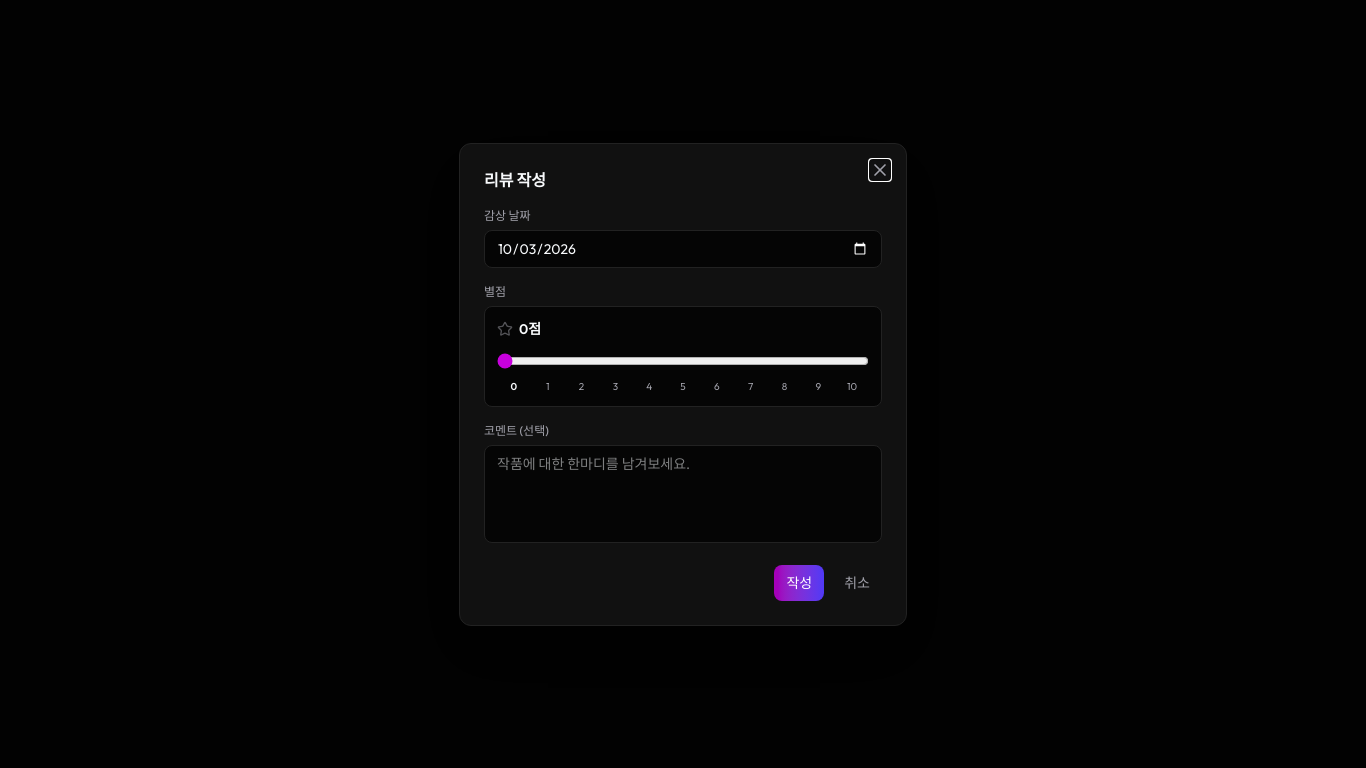
it: Review flow integration › 리뷰 작성 실패 시 서버 메시지를 표시하고 성공 이벤트를 보내지 않아야 한다
Set the slider named "별점 선택" to "7": (754, 360) [497,356,869,364]
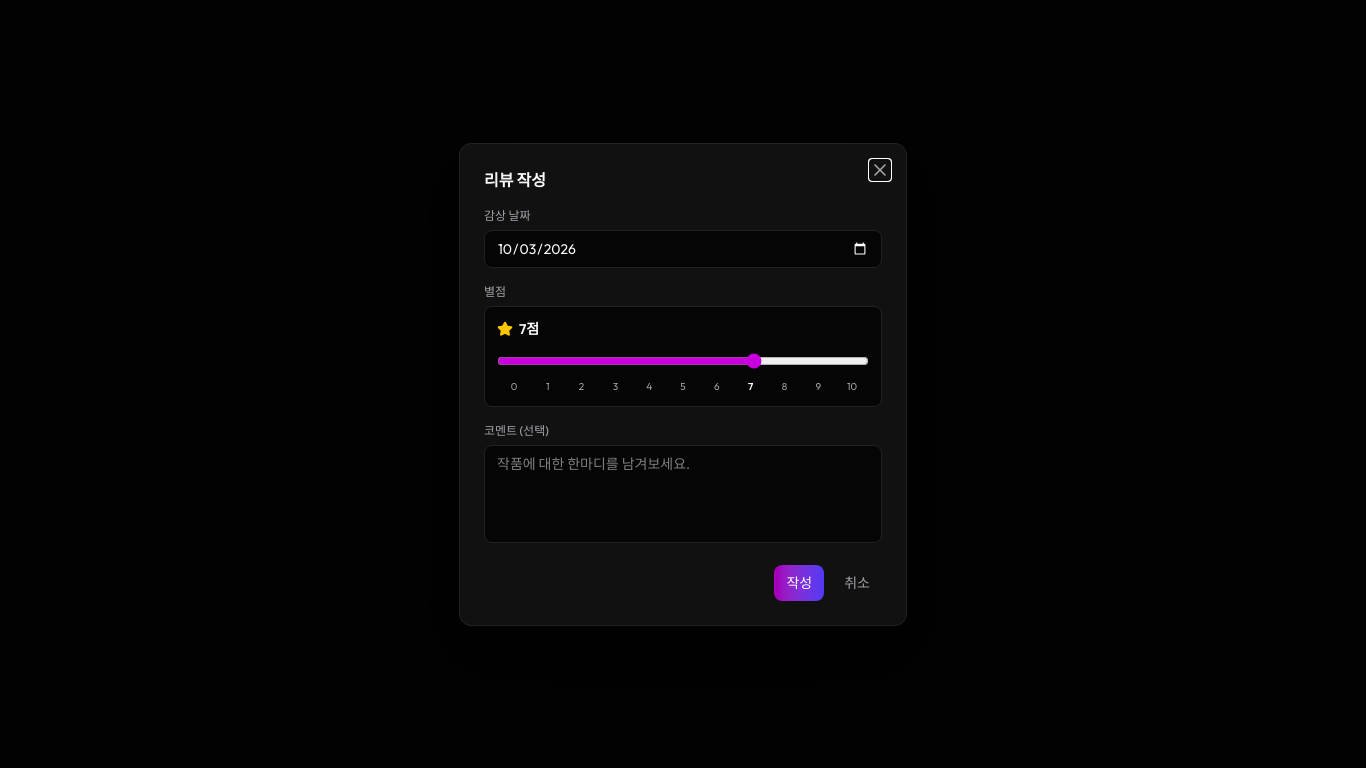
Click the button "작성": (799, 582) [774,564,824,600]
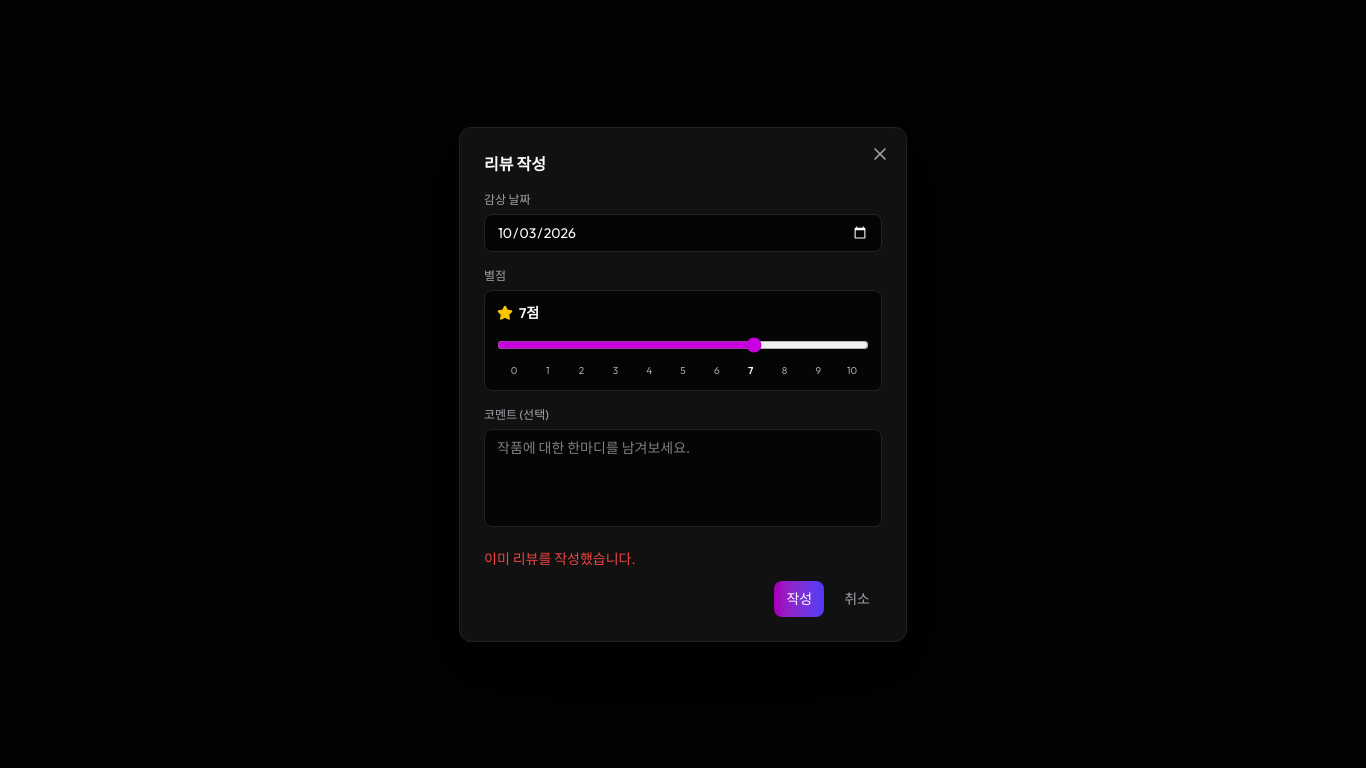
Expected: the text "이미 리뷰를 작성했습니다." is shown, [484,550,636,568]
